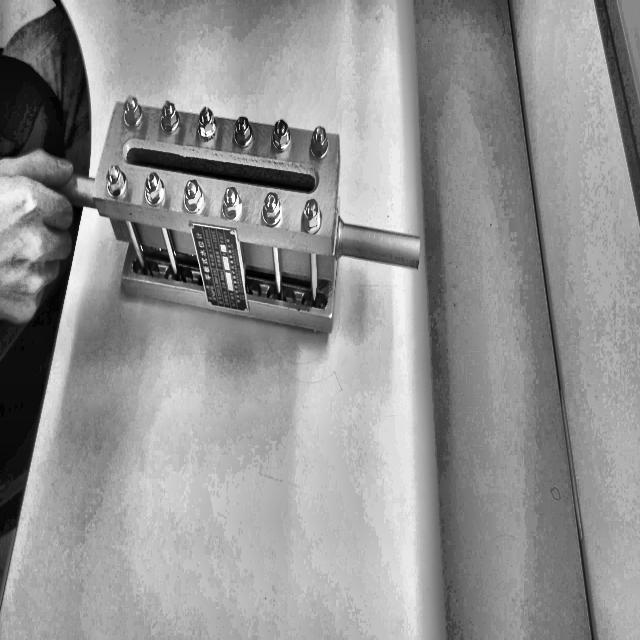ShuiWeiQi_12: (100, 66, 428, 353)
